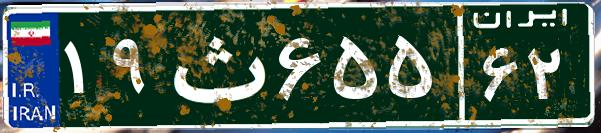1: (57, 26, 110, 107)
2: (525, 38, 570, 115)
5: (385, 28, 445, 110), (330, 28, 385, 110)
6: (273, 28, 330, 110), (475, 38, 525, 113)
9: (110, 28, 158, 105)
ث: (158, 15, 273, 115)
